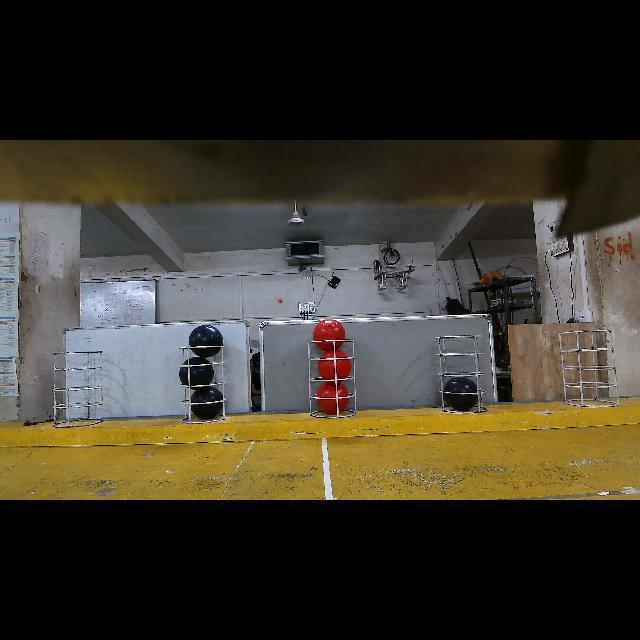P: (444, 377, 478, 411), (189, 325, 223, 358), (191, 386, 223, 419), (180, 357, 213, 389)
R: (318, 351, 351, 383), (317, 381, 348, 414), (314, 319, 345, 351)
S: (556, 330, 624, 410), (435, 335, 489, 415), (306, 338, 358, 419), (178, 344, 230, 424), (52, 351, 104, 427)
